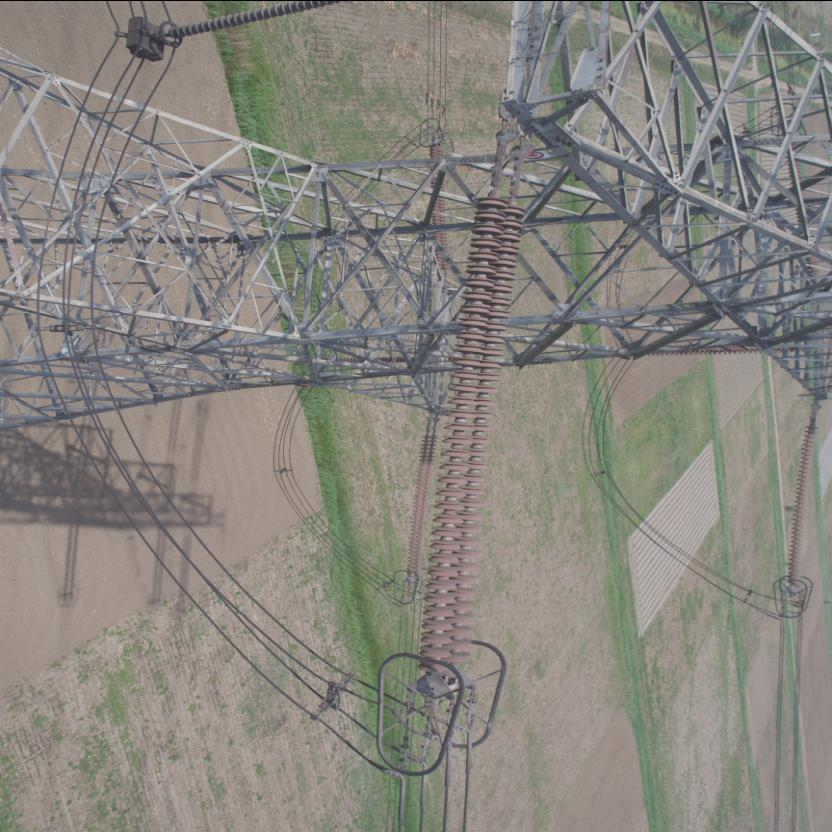insulator: (419, 192, 529, 672), (786, 418, 822, 585)
